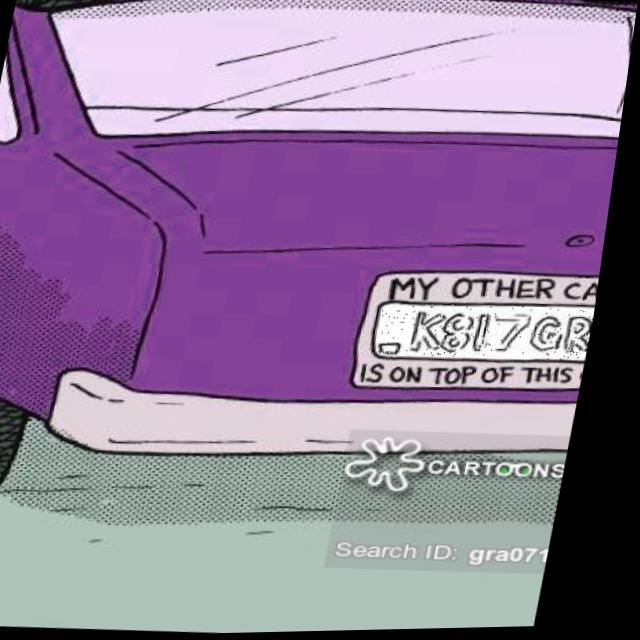license_plate: (382, 300, 605, 367)
